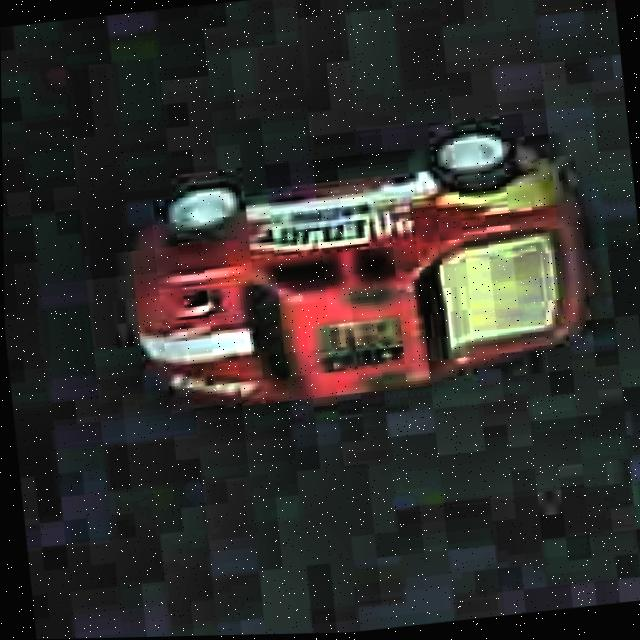car: (116, 115, 603, 426)
